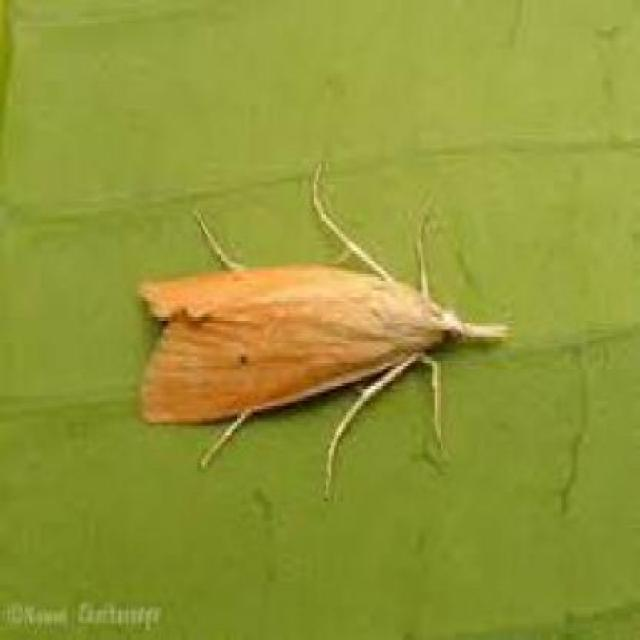stem-borer: (137, 167, 509, 496)
